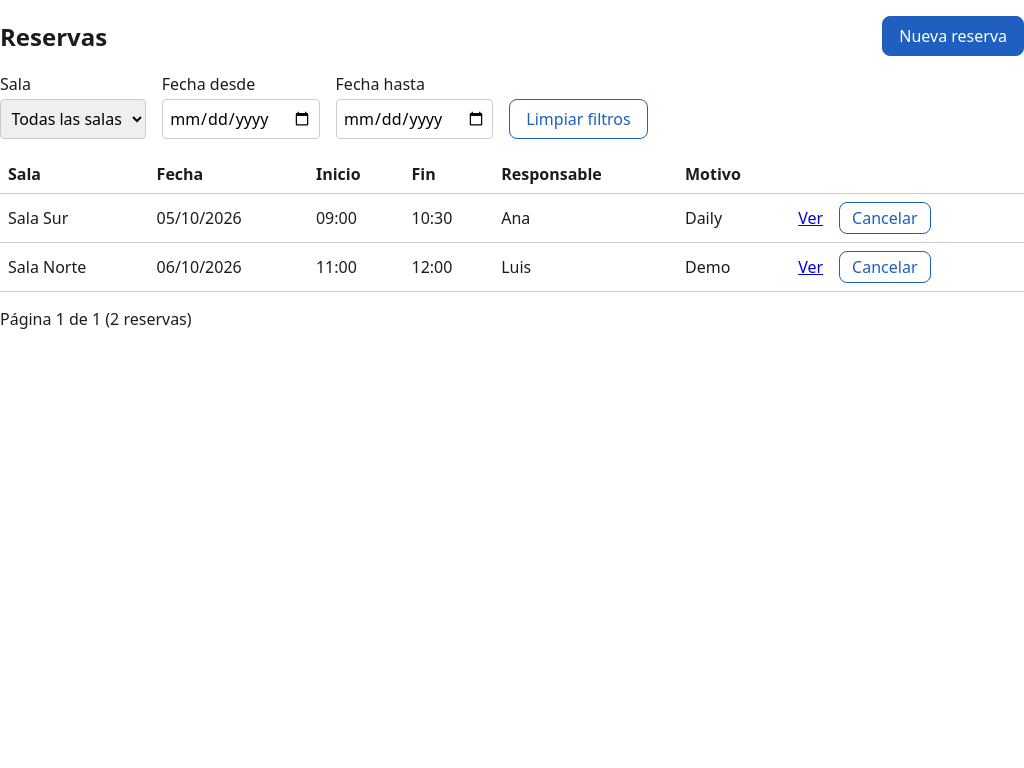
ReservaListComponent › ver y cancelar › abrir un nuevo diálogo limpia el aviso y el error anteriores
Click the button "Cancelar" in the row of "Sala Sur" at (885, 218), box [839, 202, 930, 234]
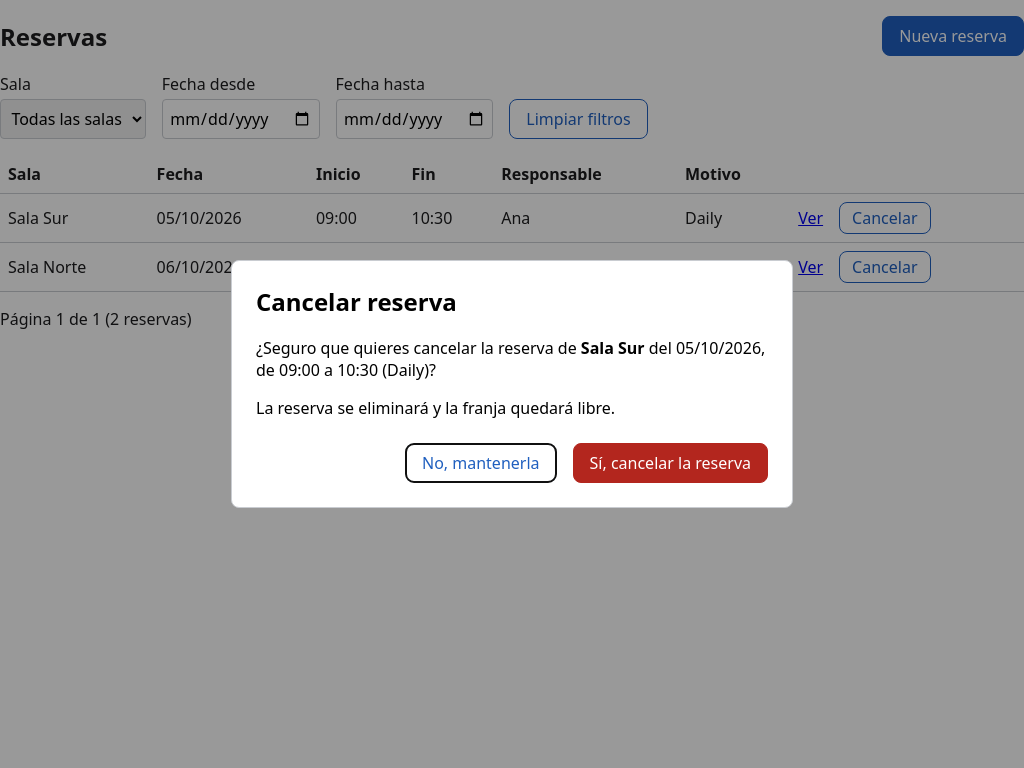
Click the button "Sí, cancelar la reserva" at (670, 464), box [572, 444, 768, 484]
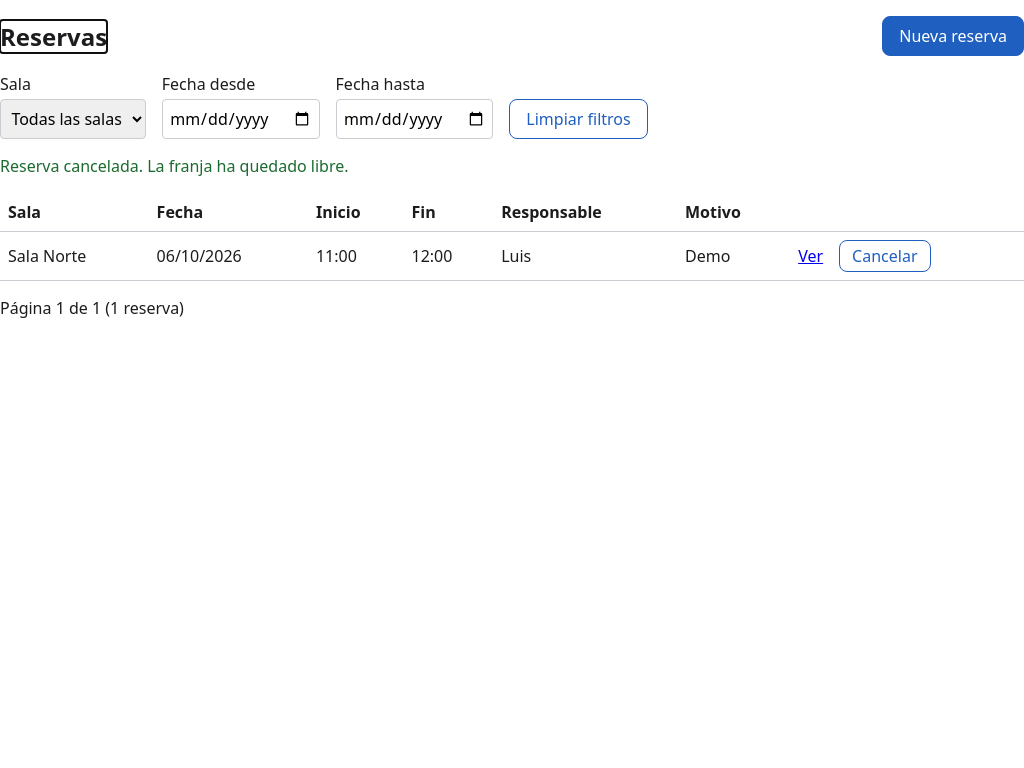
Expected: the text "Reserva cancelada. La franja ha quedado libre." is shown, [0, 155, 349, 177]
Click the button "Cancelar" at (885, 256), box [839, 240, 930, 272]
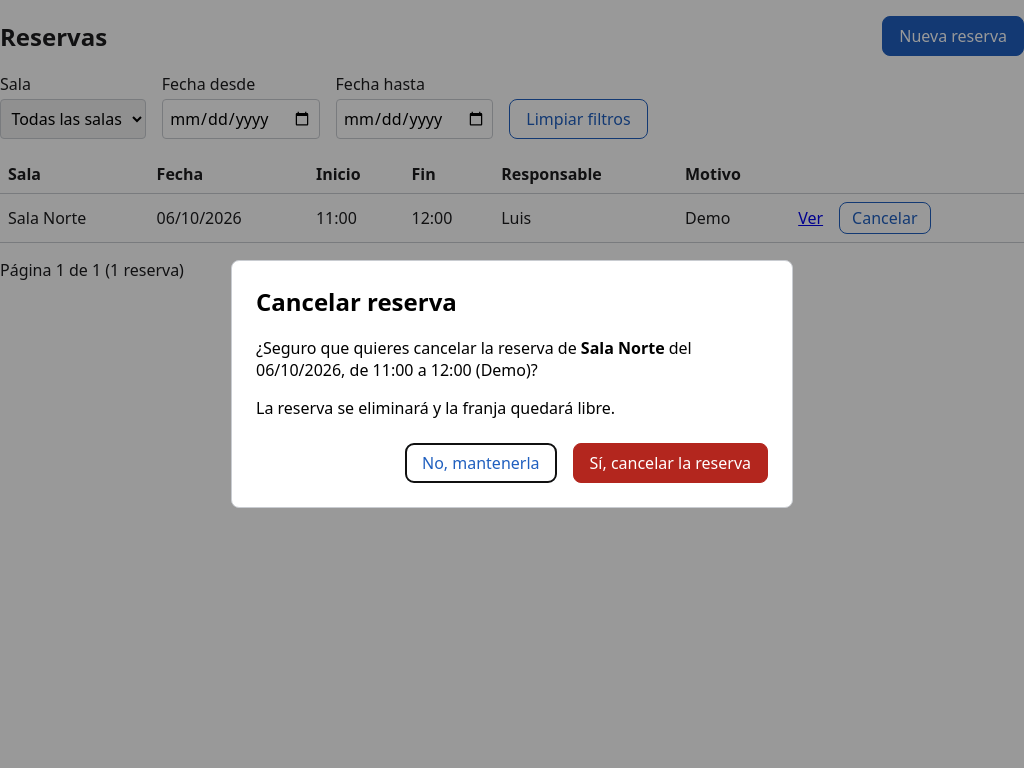
Expected: the text with class "exito" is gone
